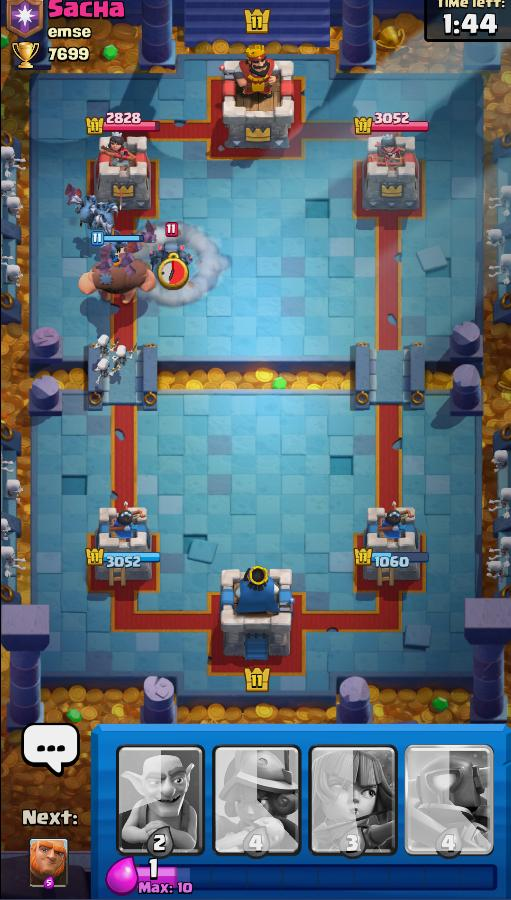bat: (115, 246, 135, 276), (138, 219, 155, 242), (65, 184, 83, 205), (93, 251, 111, 272)
gargouille: (75, 195, 98, 226), (92, 202, 117, 227), (104, 230, 127, 253)
geant: (79, 259, 155, 303)
mini_PEKKA: (150, 244, 192, 265)
squelette: (93, 357, 119, 392), (114, 344, 133, 367), (95, 334, 108, 357)
